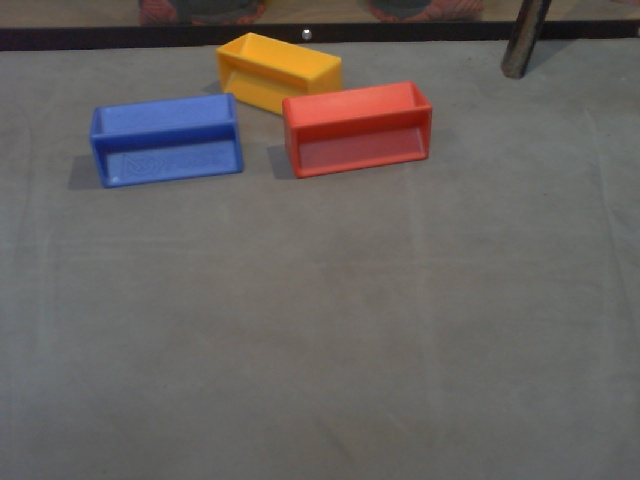BlueSample: (88, 88, 244, 190)
RedSample: (281, 80, 434, 182)
YellowSample: (213, 31, 345, 122)
